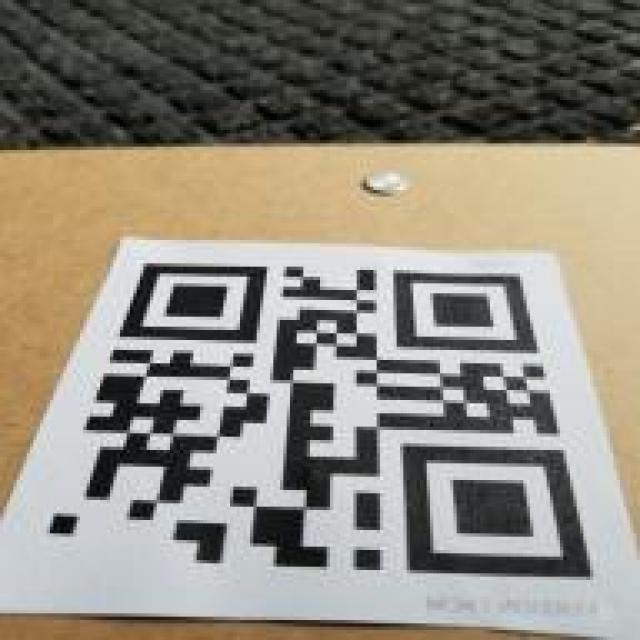qr_code: (45, 262, 591, 577)
